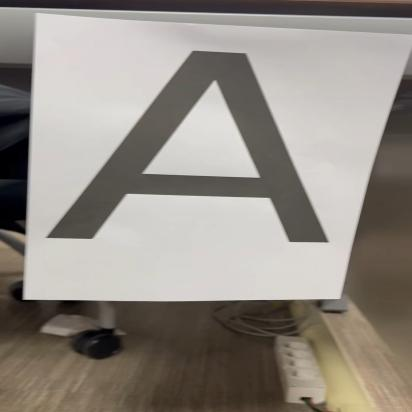seat: (42, 43, 335, 247)
